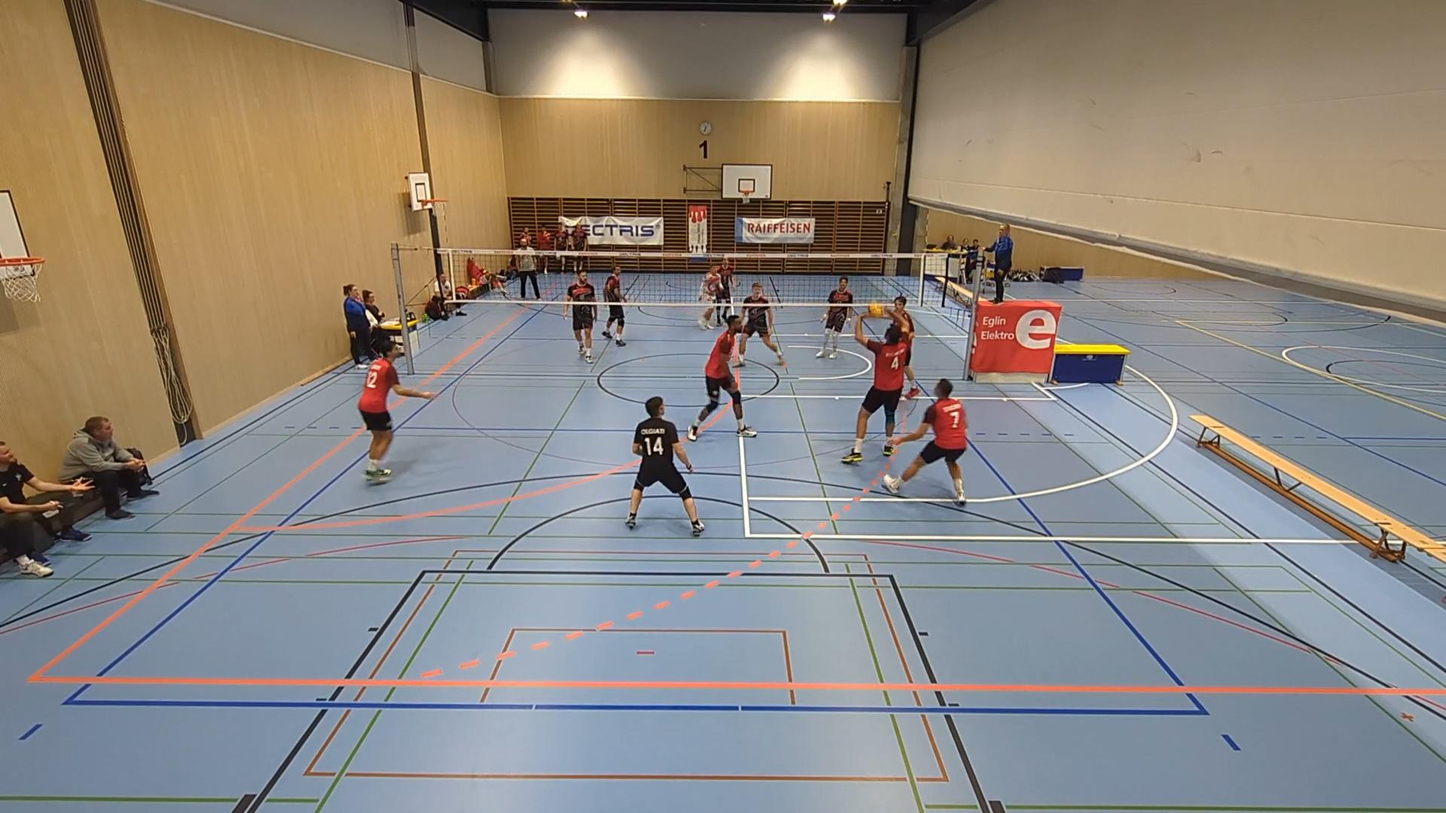Player: (358, 341, 435, 483), (626, 396, 703, 535), (883, 379, 966, 505), (688, 315, 756, 440), (735, 282, 786, 366), (886, 295, 922, 399), (563, 270, 596, 363), (816, 276, 853, 358), (602, 263, 625, 346), (698, 266, 721, 330), (715, 259, 733, 325)
Receive: (840, 302, 918, 462)
